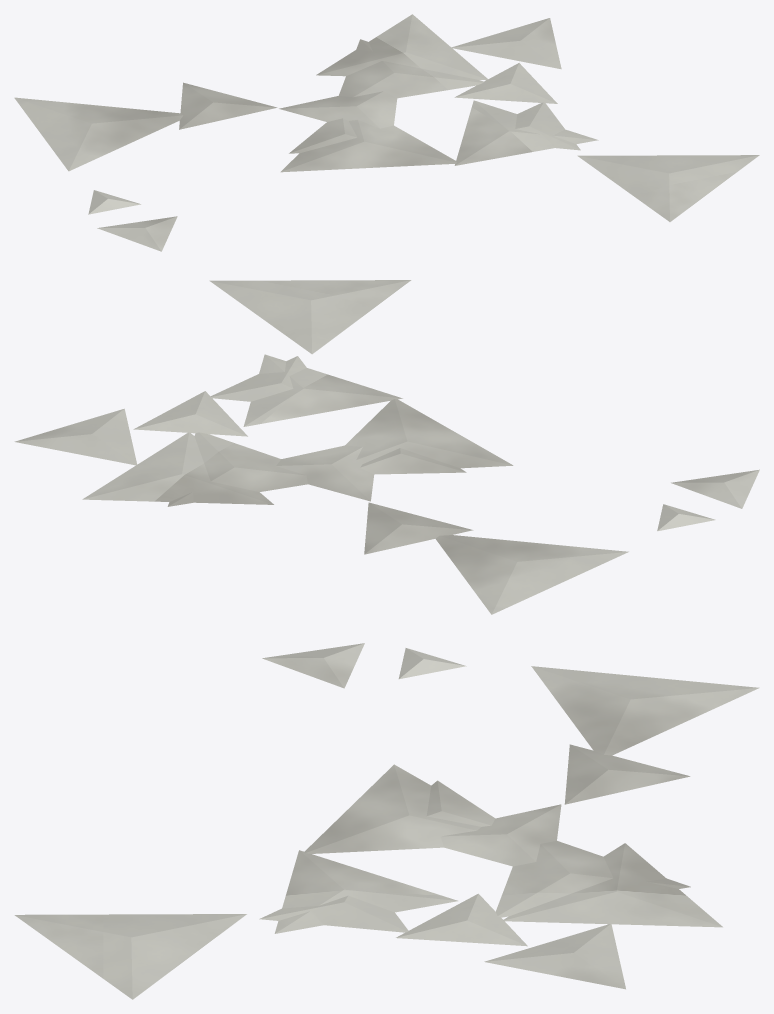
Rendered from D03_glass_shards_v2.glb.
3 views of the same model, one above another, from view 1: azimuth 30°, elevation 25°; view 2: azimuth 150°, elevation 25°; view 3: azimuth 270°, elevation 25° (orthographic). The views are drawn at different scales.
Visible parts, largest first — view 1: D03_glass_shards_v2; view 2: D03_glass_shards_v2; view 3: D03_glass_shards_v2.
Part boxes in pixels (left/top/right/bottom): D03_glass_shards_v2: left=14, top=14, right=759, bottom=251; D03_glass_shards_v2: left=14, top=280, right=759, bottom=614; D03_glass_shards_v2: left=14, top=643, right=759, bottom=999.
Size of the model in its own units: 0.4 by 0.00283 by 0.3535.
1 material, 1 textured.
